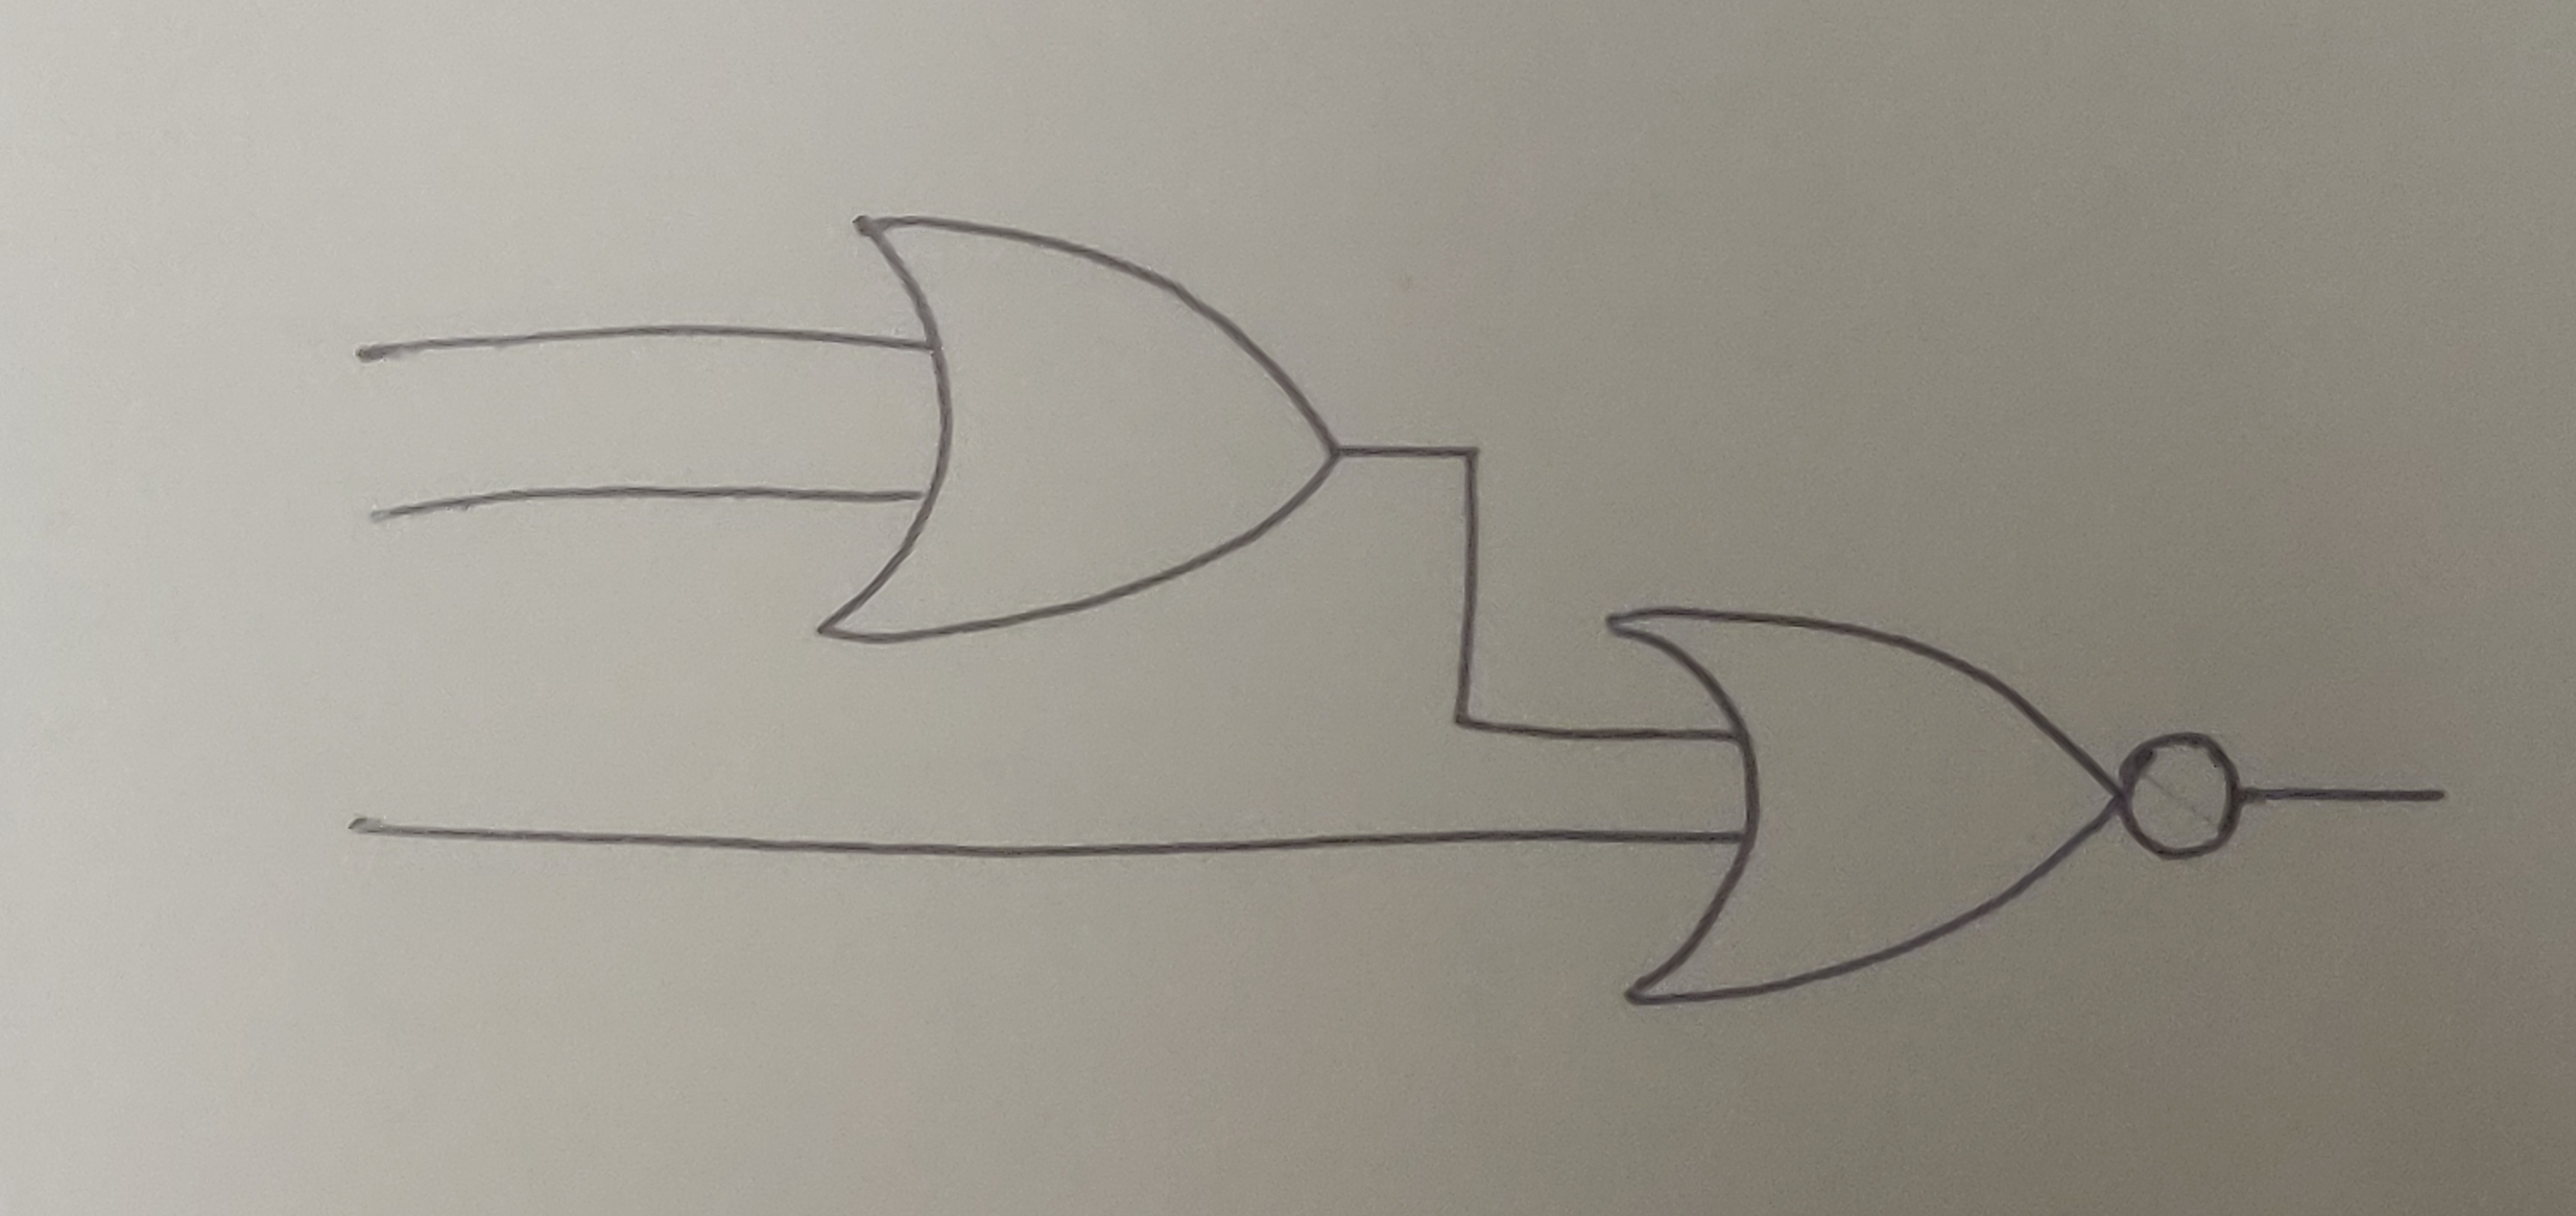not: (2116, 726, 2247, 871)
or: (821, 207, 1341, 651), (1594, 605, 2132, 1006)
